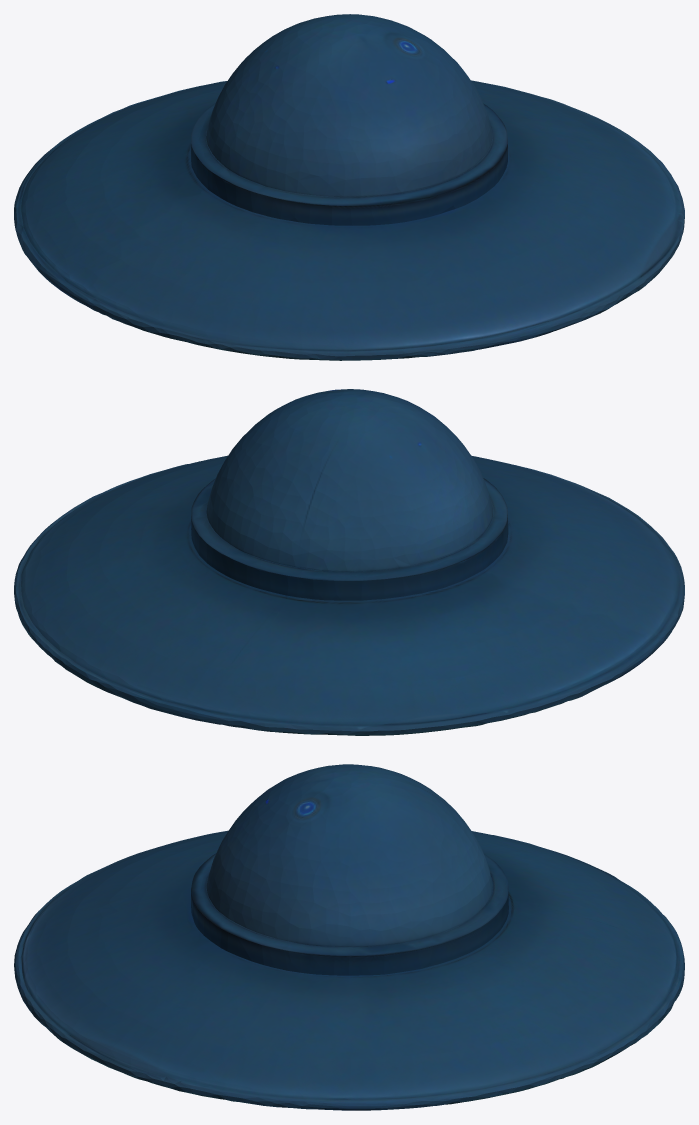
Rendered from UFO_0422110228_texture.fbx.
3 renders of one model, top to bottom at view 1: azimuth 30°, elevation 25°; view 2: azimuth 150°, elevation 25°; view 3: azimuth 270°, elevation 25°, orthographic.
Parts seen in each view (by area): view 1: temp; view 2: temp; view 3: temp.
Part boxes in pixels (<box>): temp: <box>14,14,684,360</box>; temp: <box>14,389,684,735</box>; temp: <box>14,764,684,1110</box>.
Size of the model in its own units: 200 by 90.17 by 200.
1 material, 1 textured.
